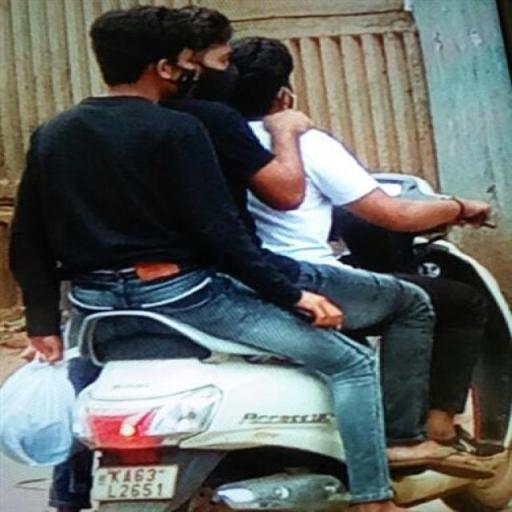tripple riding: (6, 4, 490, 314)
